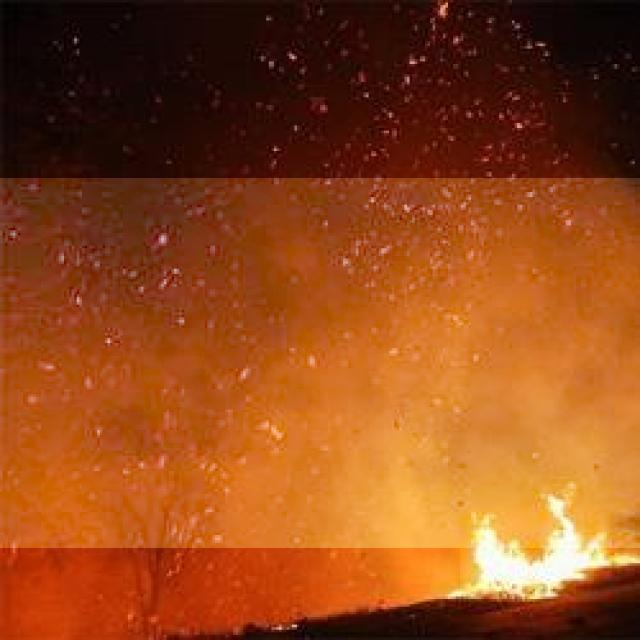Fire: (460, 497, 640, 602)
Smoke: (0, 178, 640, 548)
